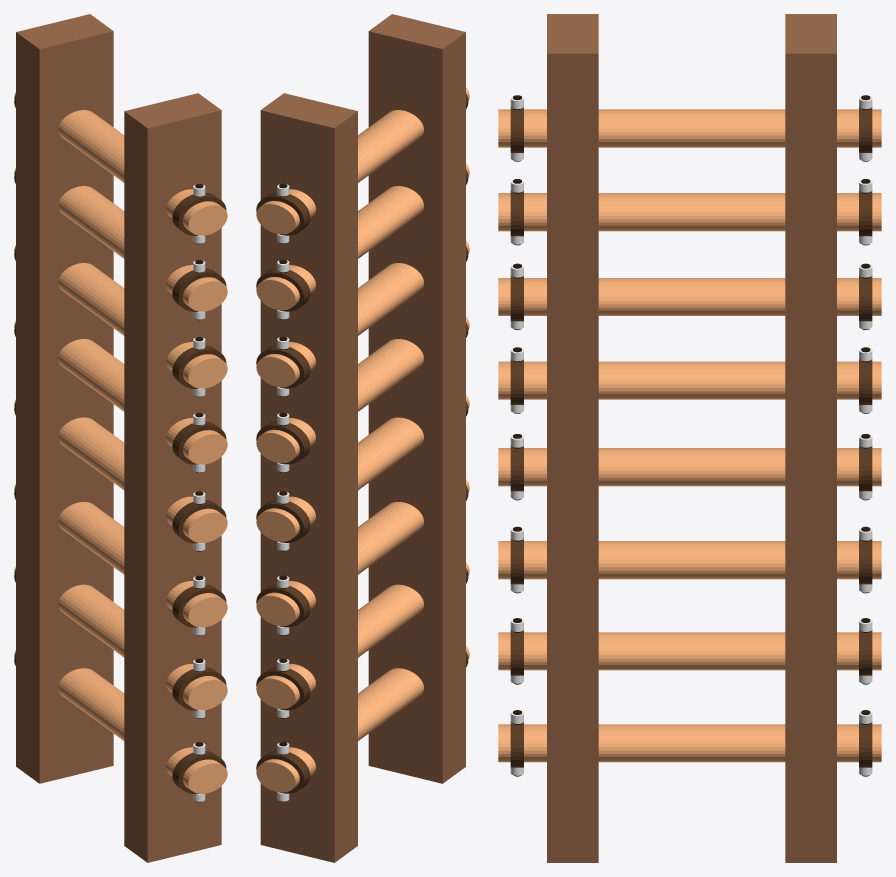
The model's file is M_Echelle.fbx.
3 views of the same model, side by side, from view 1: azimuth 30°, elevation 25°; view 2: azimuth 150°, elevation 25°; view 3: azimuth 270°, elevation 25° (orthographic). The views are drawn at different scales.
Visible parts, largest first — view 1: Cylinder.065; view 2: Cylinder.065; view 3: Cylinder.065.
Boxes of the visible parts, x1,y1,x2,y2 form: Cylinder.065: [14, 14, 227, 862]; Cylinder.065: [256, 14, 469, 862]; Cylinder.065: [498, 14, 881, 862].
Size of the model in its own units: 81.17 by 769 by 331.
